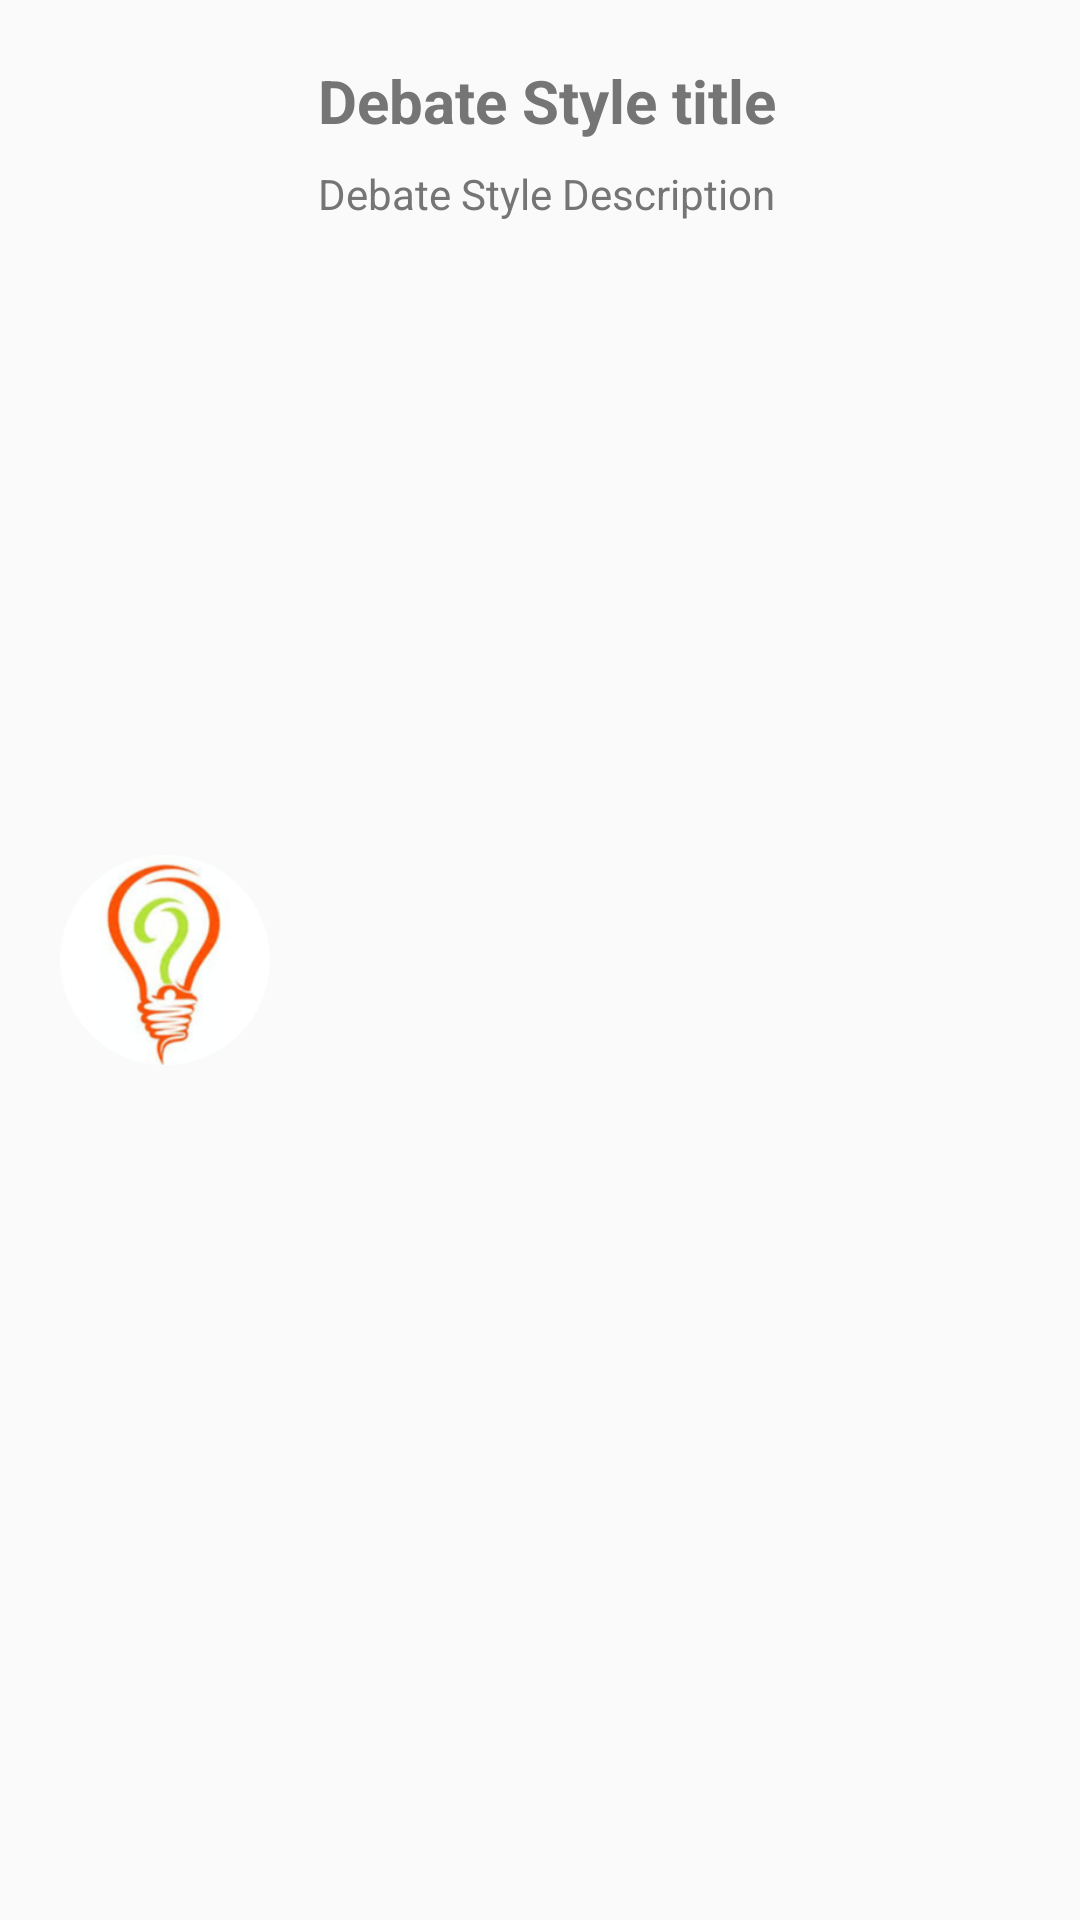

Screen size 1080px x 1920px. Icon name, then its box in pixels as (x1, y1, x2, y2):
bigquestioncircle: (107, 864, 221, 1065)
